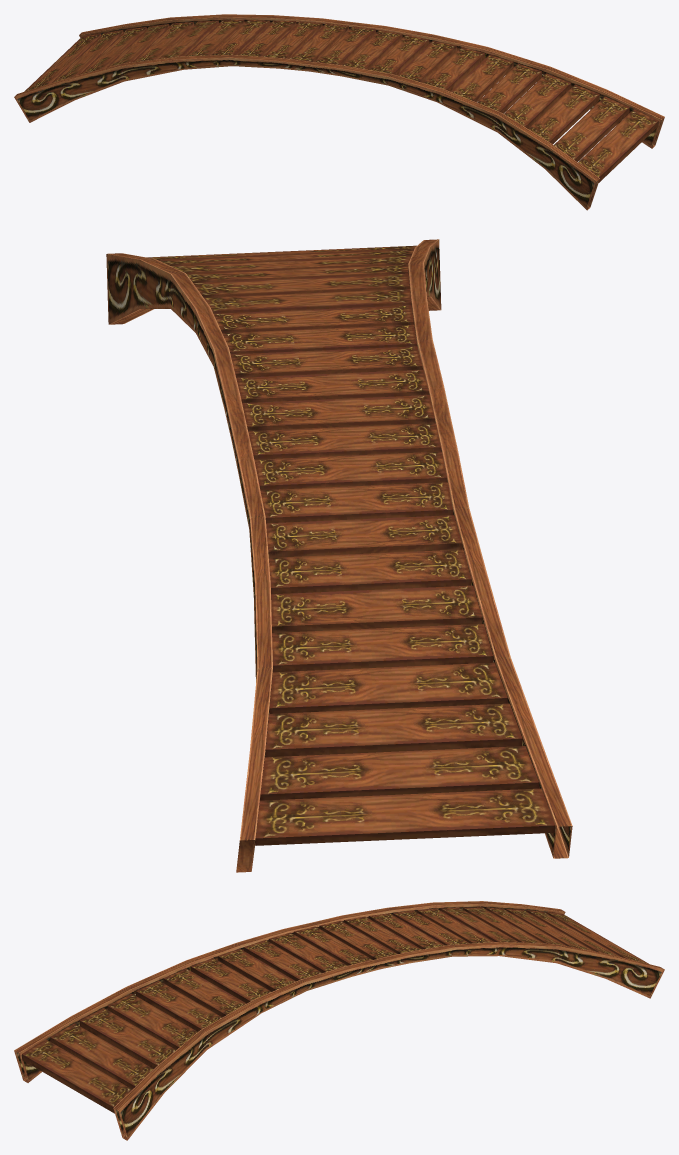
File: EKH_THRONE_PS_TH_SIDEBRIDGE76__GX.fbx
3 renders of one model, top to bottom at view 1: azimuth 30°, elevation 25°; view 2: azimuth 150°, elevation 25°; view 3: azimuth 270°, elevation 25°, orthographic. The views are drawn at different scales.
Visible parts, largest first — view 1: EKH_THRONE_PS_TH_SIDEBRIDGE76__GX; view 2: EKH_THRONE_PS_TH_SIDEBRIDGE76__GX; view 3: EKH_THRONE_PS_TH_SIDEBRIDGE76__GX.
Part boxes in pixels (<box>): EKH_THRONE_PS_TH_SIDEBRIDGE76__GX: <box>14,14,664,210</box>; EKH_THRONE_PS_TH_SIDEBRIDGE76__GX: <box>106,239,572,872</box>; EKH_THRONE_PS_TH_SIDEBRIDGE76__GX: <box>14,901,664,1140</box>.
Size of the model in its own units: 57222 by 12438 by 68901.
Materials: 2 (2 with a texture image).
